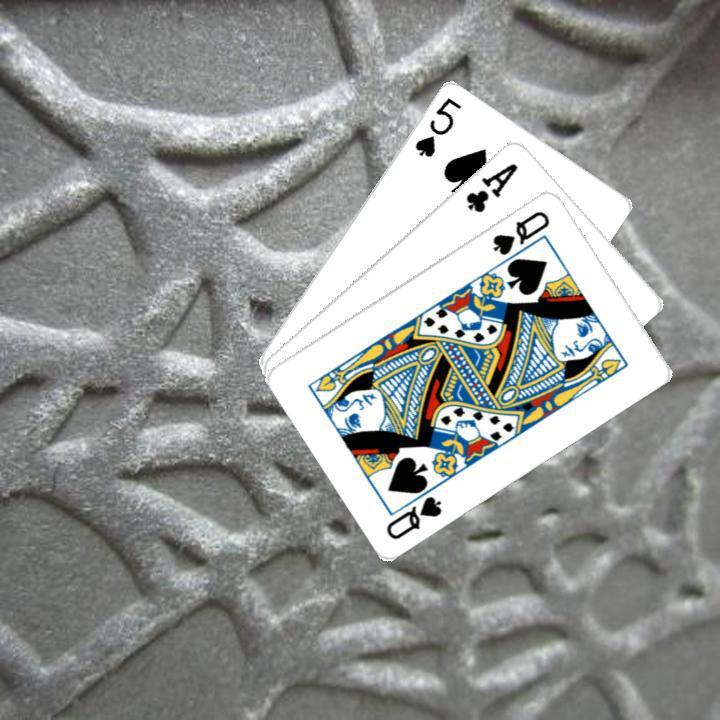5: (410, 92, 463, 159)
A: (461, 158, 520, 215)
Q: (488, 206, 552, 257), (381, 490, 444, 541)
